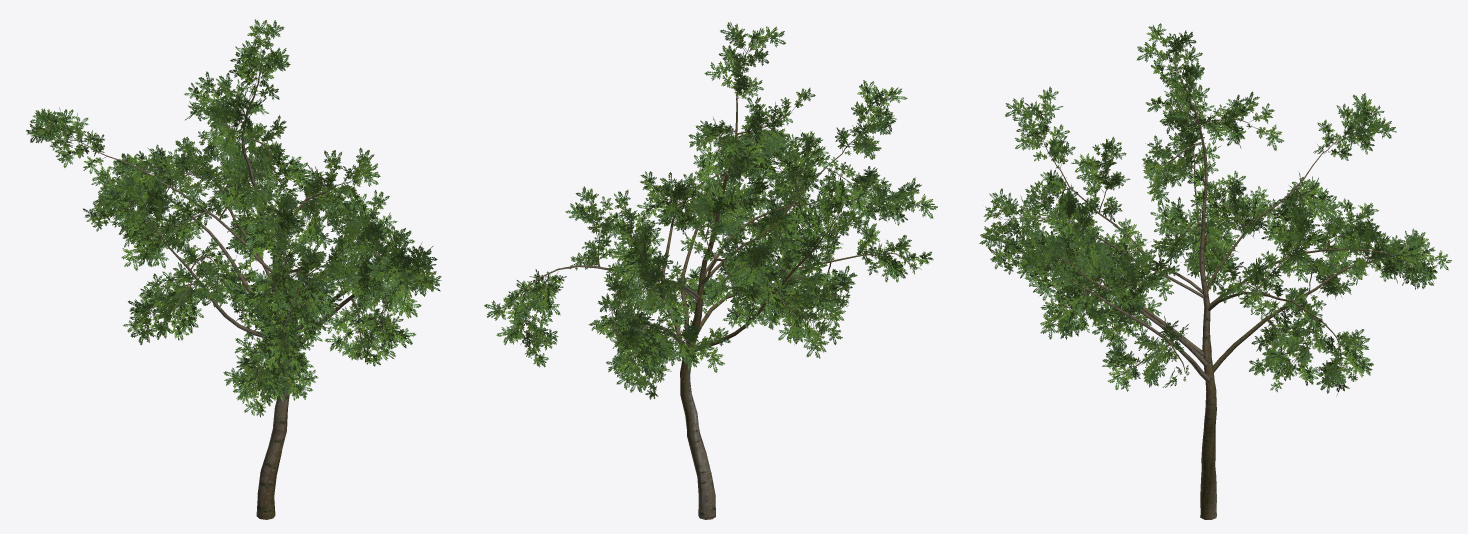
The model's file is Tree2.fbx.
3 views of the same model, side by side, from view 1: azimuth 30°, elevation 25°; view 2: azimuth 150°, elevation 25°; view 3: azimuth 270°, elevation 25° (orthographic). The views are drawn at different scales.
Parts seen in each view (by area): view 1: Tree2; view 2: Tree2; view 3: Tree2.
Part boxes in pixels (x1=…): Tree2: x1=26, y1=19, x2=441, y2=519; Tree2: x1=484, y1=22, x2=937, y2=519; Tree2: x1=979, y1=23, x2=1451, y2=519.
Size of the model in its own units: 551 by 845 by 764.
2 materials, 2 textured.
